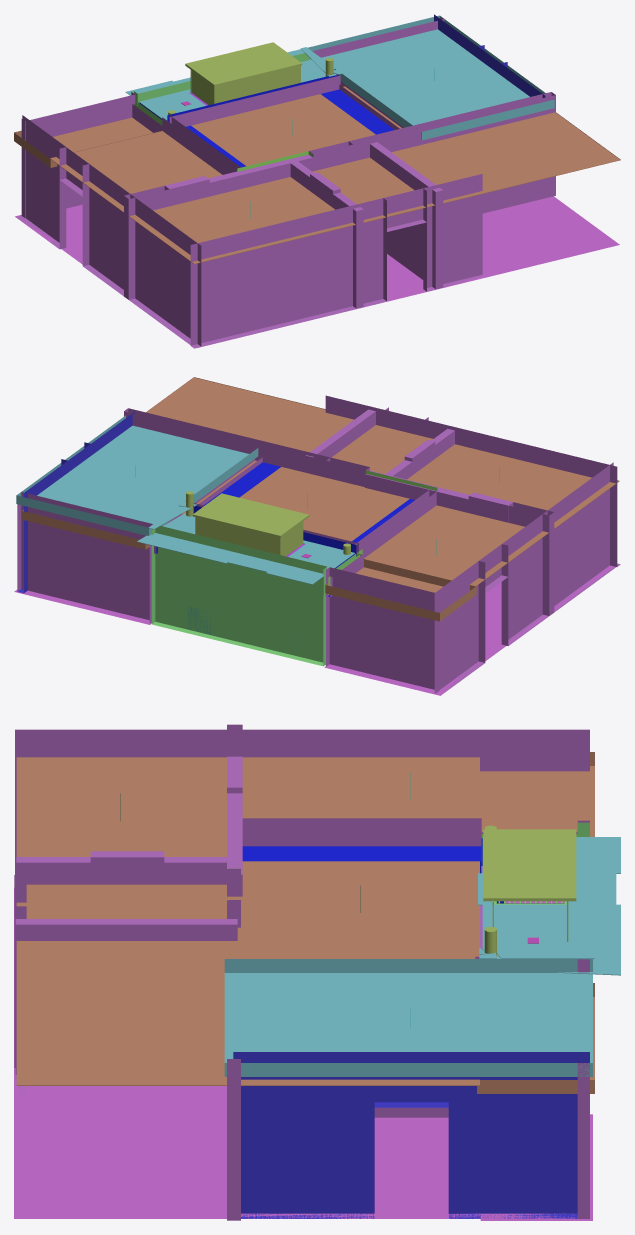
The model's file is EZ Small Checkpoint.fbx.
3 renders of one model, top to bottom at view 1: azimuth 30°, elevation 25°; view 2: azimuth 150°, elevation 25°; view 3: azimuth 270°, elevation 25°, orthographic. The views are drawn at different scales.
Visible parts, largest first — view 1: room_mesh; view 2: room_mesh; view 3: room_mesh.
Boxes of the visible parts, bbox=[...] form: room_mesh: bbox=[14, 14, 620, 348]; room_mesh: bbox=[14, 377, 620, 695]; room_mesh: bbox=[14, 724, 620, 1220].
Size of the model in its own units: 1289 by 346 by 987.
